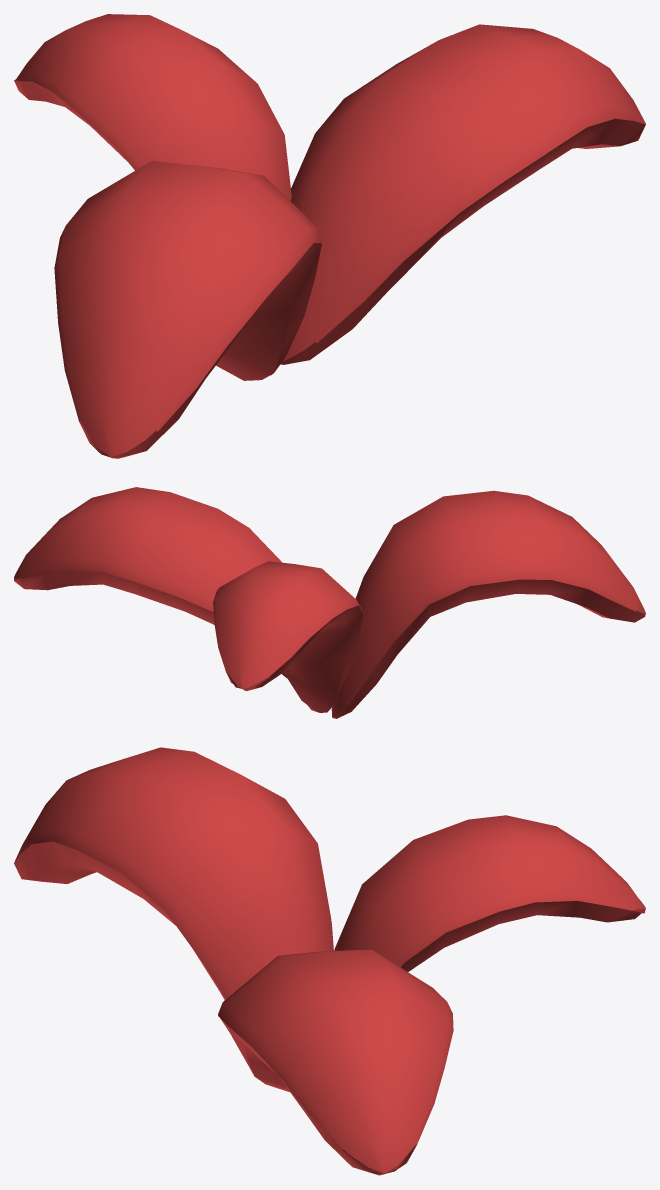
The model's file is Plant 2 (Red) - Lvl 1.fbx.
The picture shows the model from 3 angles, top to bottom: view 1: azimuth 30°, elevation 25°; view 2: azimuth 150°, elevation 25°; view 3: azimuth 270°, elevation 25°; orthographic projection. The views are drawn at different scales.
Visible parts, largest first — view 1: plantB_forest 1; view 2: plantB_forest 1; view 3: plantB_forest 1.
Part boxes in pixels (x1,y1,x2,y2): plantB_forest 1: (14, 14, 645, 458); plantB_forest 1: (14, 487, 645, 718); plantB_forest 1: (14, 747, 645, 1175).
Size of the model in its own units: 40.42 by 32.85 by 15.19.
